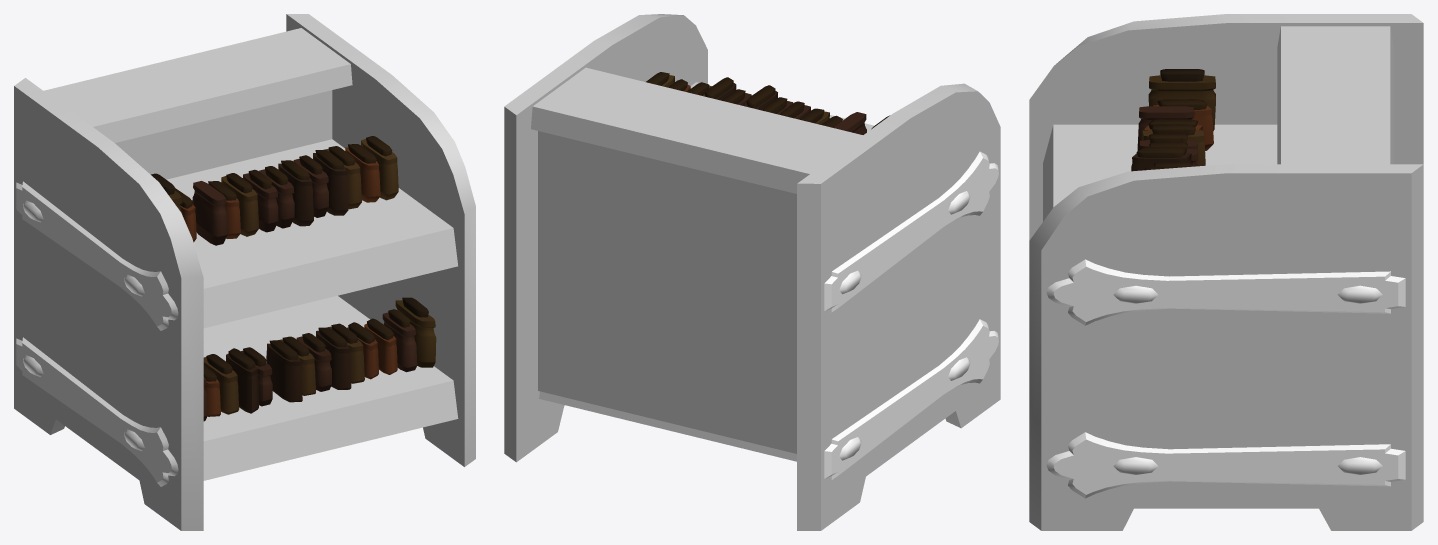
The model's file is shelf_bottles.glb.
The picture shows the model from 3 angles, left to right: view 1: azimuth 30°, elevation 25°; view 2: azimuth 150°, elevation 25°; view 3: azimuth 270°, elevation 25°; orthographic projection. The views are drawn at different scales.
Parts seen in each view (by area): view 1: Shelf_Small_Bottles; view 2: Shelf_Small_Bottles; view 3: Shelf_Small_Bottles.
Boxes of the visible parts, x1,y1,x2,y2 form: Shelf_Small_Bottles: (14,14,475,530); Shelf_Small_Bottles: (504,14,1000,530); Shelf_Small_Bottles: (1029,14,1423,530).
Bounding box in the file's own units: 1 × 1 × 1.
